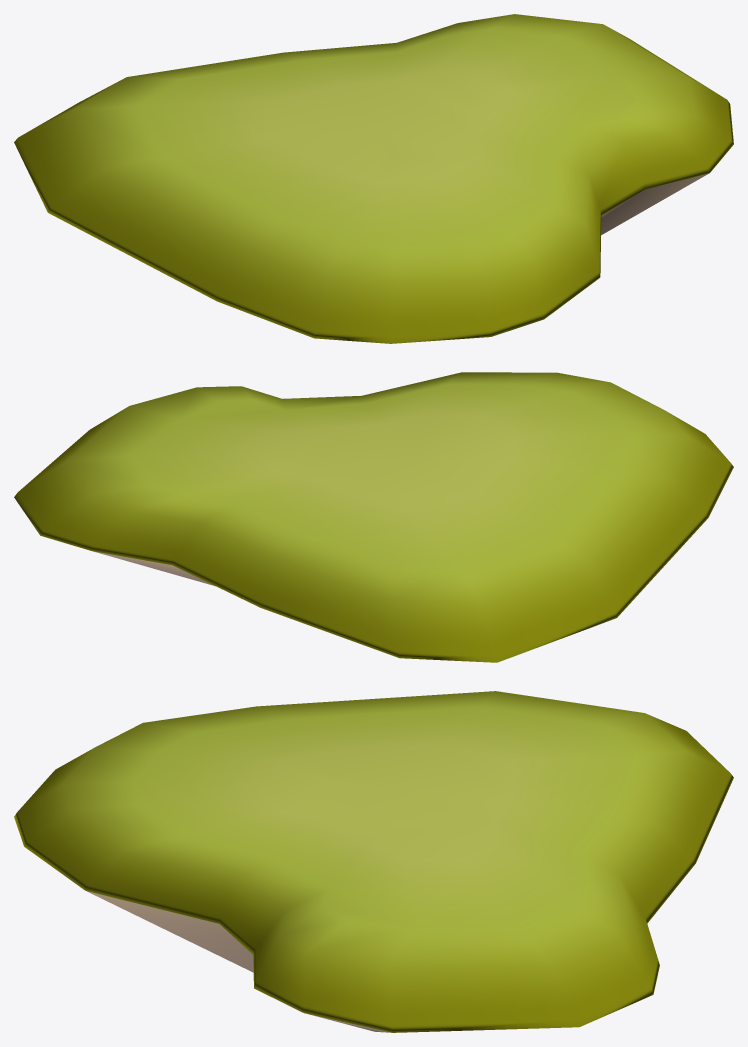
File: grassTopEdge_A.fbx
3 views of the same model, one above another, from view 1: azimuth 30°, elevation 25°; view 2: azimuth 150°, elevation 25°; view 3: azimuth 270°, elevation 25° (orthographic). The views are drawn at different scales.
Parts seen in each view (by area): view 1: grassTopEdge_A; view 2: grassTopEdge_A; view 3: grassTopEdge_A.
Part boxes in pixels (bbox=[...]): grassTopEdge_A: bbox=[14, 14, 733, 343]; grassTopEdge_A: bbox=[14, 372, 733, 662]; grassTopEdge_A: bbox=[14, 691, 733, 1032].
Size of the model in its own units: 1685 by 521 by 1592.
